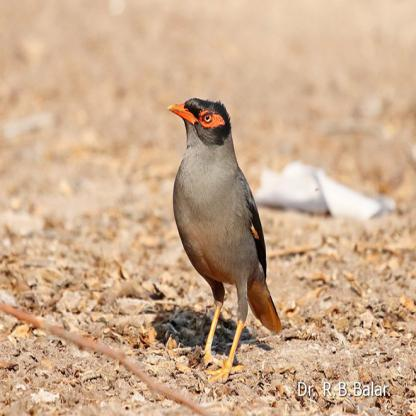Burung: (163, 97, 281, 379)
